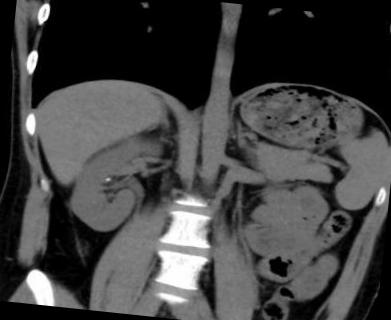Tas_Var: (103, 175, 111, 182)
